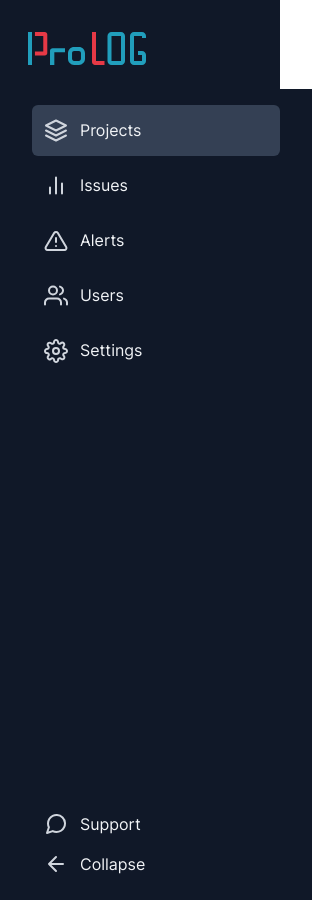
Sidebar Navigation › desktop resolution › is collapsible
Click the button "Collapse" at (95, 864), box [44,852,145,876]
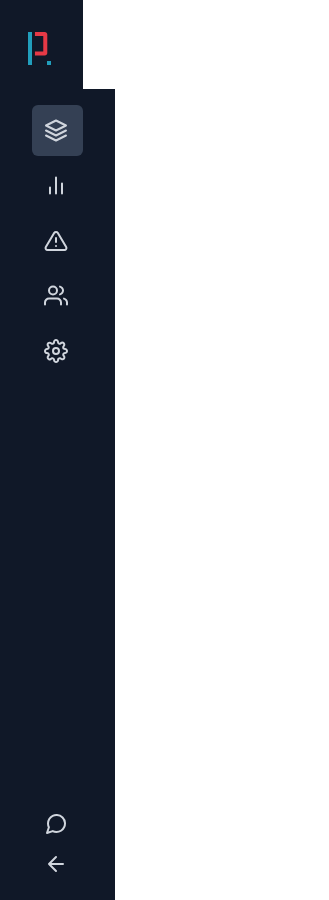
expect the number of links is 5: met, box [44,118,68,143]; [44,173,68,198]; [44,228,68,252]; [44,283,68,308]; [44,338,68,362]
expect the link "Issues" is gone: met
